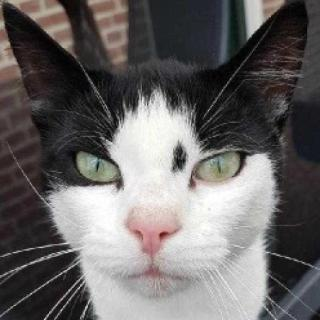cat: (2, 0, 308, 299)
nose: (121, 202, 186, 259)
